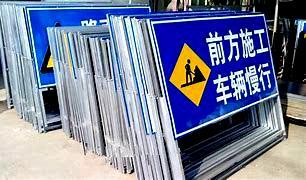sign: (155, 17, 281, 119)
